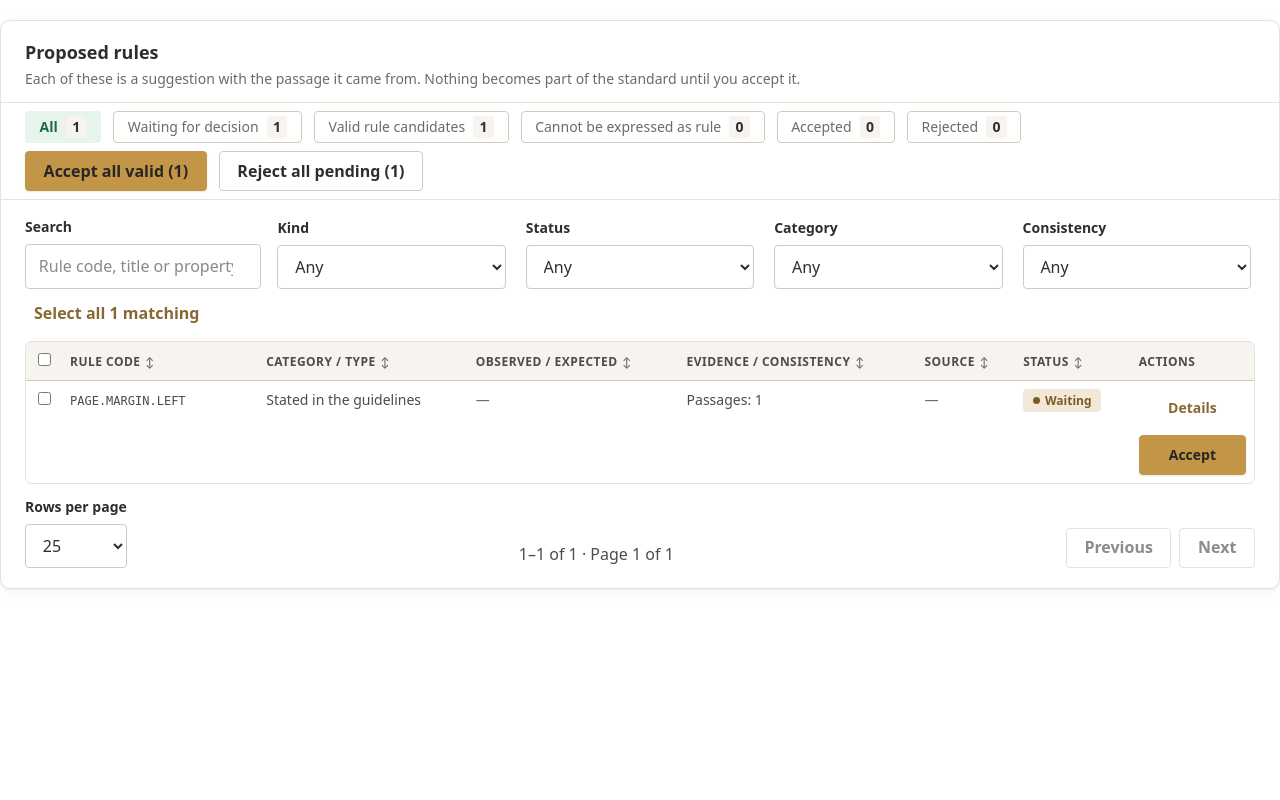
Test: the proposal review screen › opens the detail panel from a click on the row itself
Click the text "PAGE.MARGIN.LEFT": point(128, 401) [26,381,1254,483]
(page scrolled)
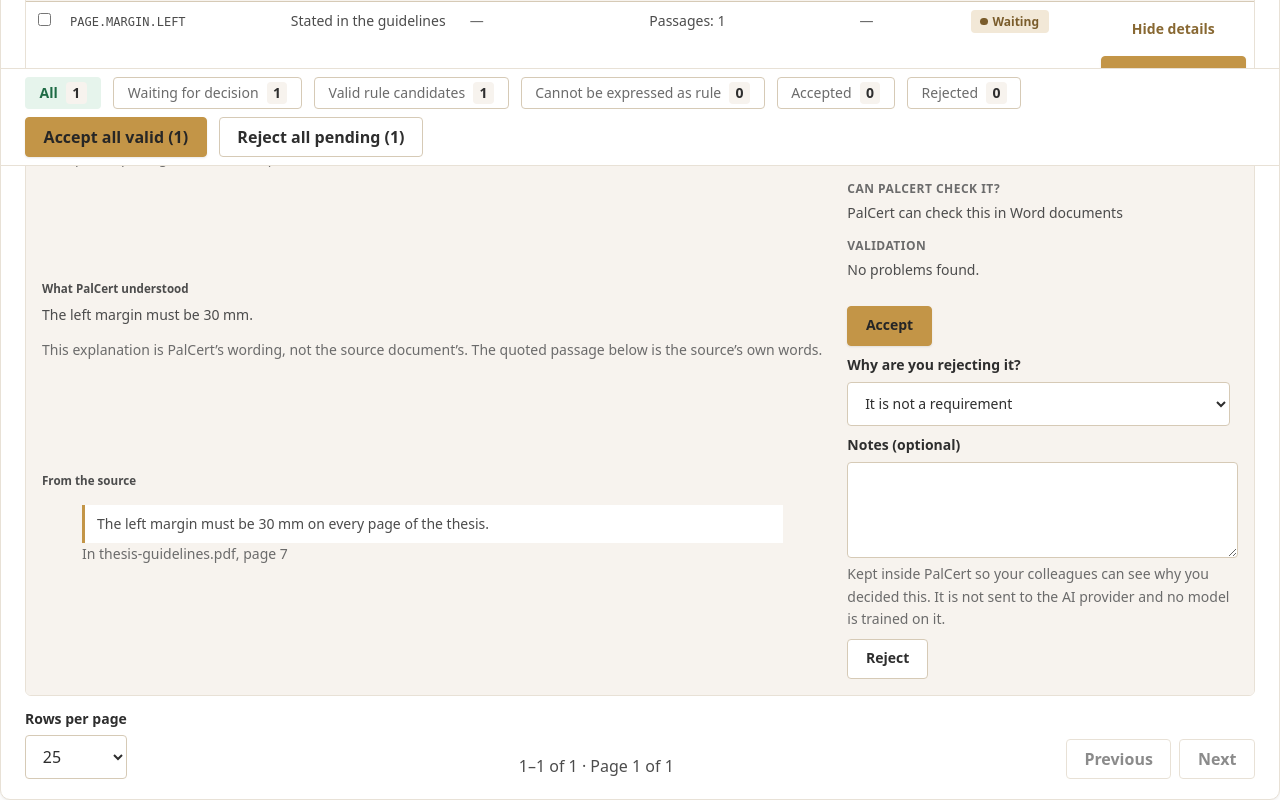
Result: the text "The left margin must be 30 mm on every page of the thesis." is shown at [82,505,783,543]
